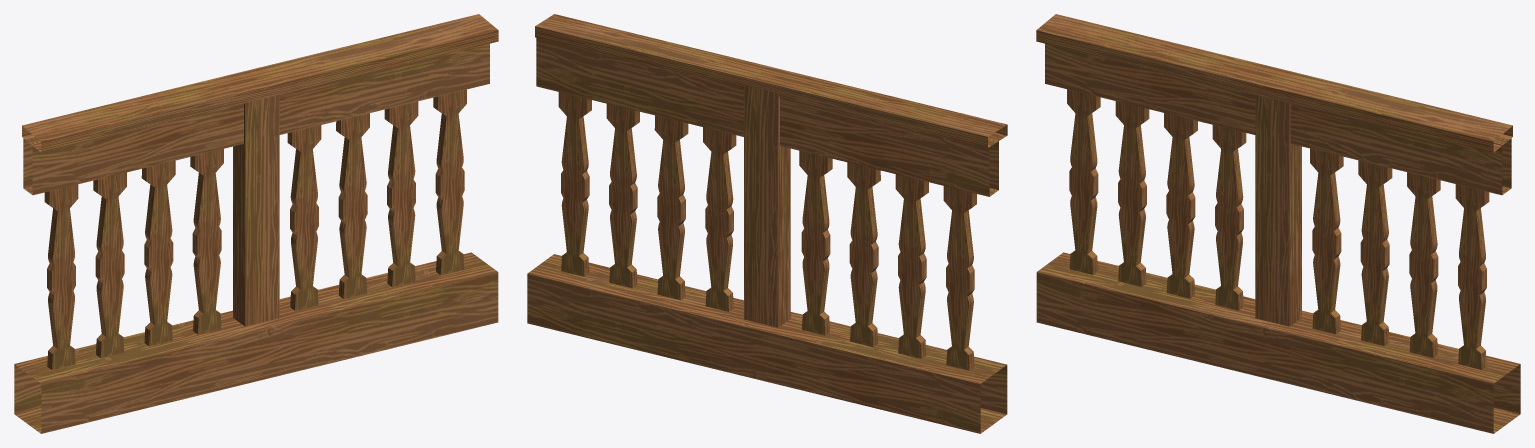
Rendered from balcony_straight.glb.
3 views of the same model, side by side, from view 1: azimuth 30°, elevation 25°; view 2: azimuth 150°, elevation 25°; view 3: azimuth 330°, elevation 25° (orthographic).
Visible parts, largest first — view 1: Balcony_Simple_Straight; view 2: Balcony_Simple_Straight; view 3: Balcony_Simple_Straight.
Part boxes in pixels (x1,y1,x2,y2): Balcony_Simple_Straight: (14,14,498,433); Balcony_Simple_Straight: (527,14,1007,433); Balcony_Simple_Straight: (1036,14,1520,433).
Bounding box in the file's own units: 2 × 1.23 × 0.2063.
Materials: 1 (1 with a texture image).
